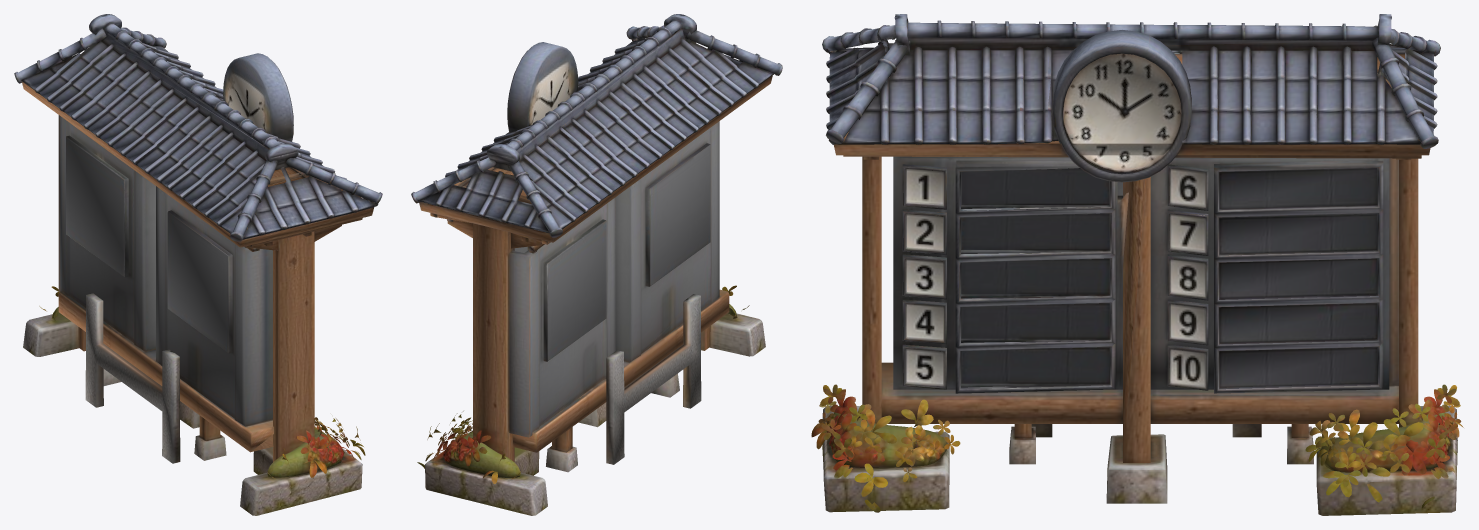
The model's file is tote_board.glb.
3 renders of one model, left to right at view 1: azimuth 30°, elevation 25°; view 2: azimuth 150°, elevation 25°; view 3: azimuth 270°, elevation 25°, orthographic. The views are drawn at different scales.
Visible parts, largest first — view 1: tripo_node_72c00844-b377-41e6-8796-37d3e46331b9; view 2: tripo_node_72c00844-b377-41e6-8796-37d3e46331b9; view 3: tripo_node_72c00844-b377-41e6-8796-37d3e46331b9.
Part boxes in pixels (x1=…): tripo_node_72c00844-b377-41e6-8796-37d3e46331b9: x1=14, y1=14, x2=382, y2=515; tripo_node_72c00844-b377-41e6-8796-37d3e46331b9: x1=411, y1=14, x2=782, y2=515; tripo_node_72c00844-b377-41e6-8796-37d3e46331b9: x1=811, y1=14, x2=1463, y2=515.
Bounding box in the file's own units: 0.3696 × 0.814 × 0.9995.
1 material, 1 textured.
